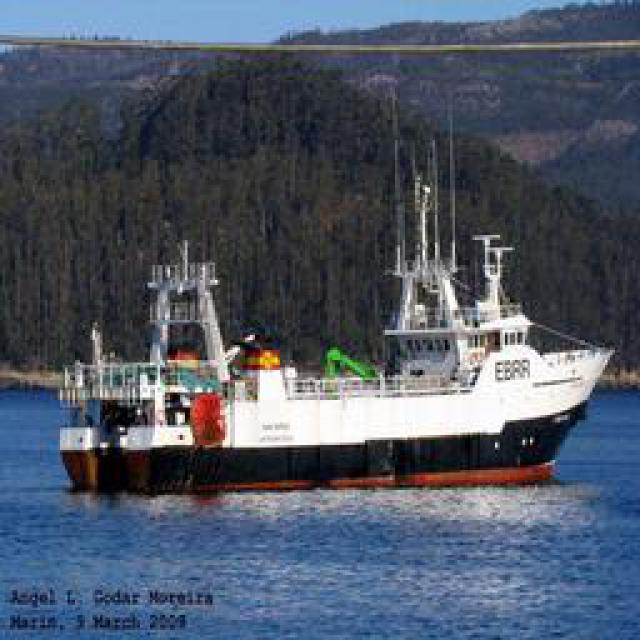Ship: (50, 213, 605, 491)
